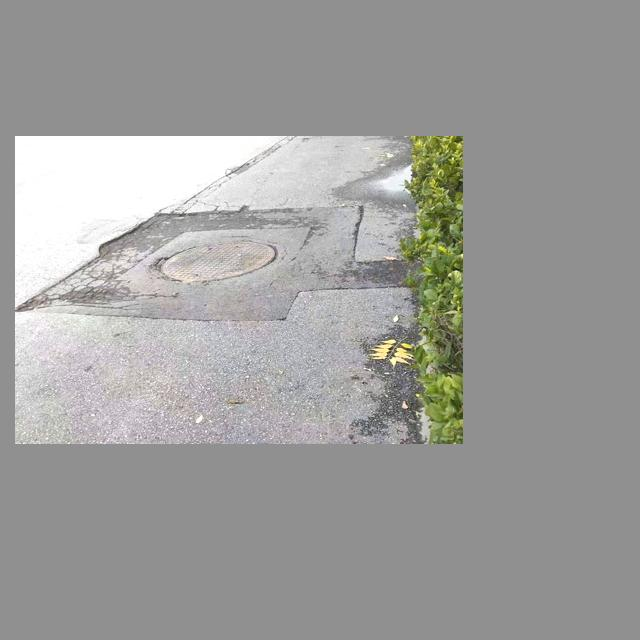circle: (71, 218, 353, 317)
